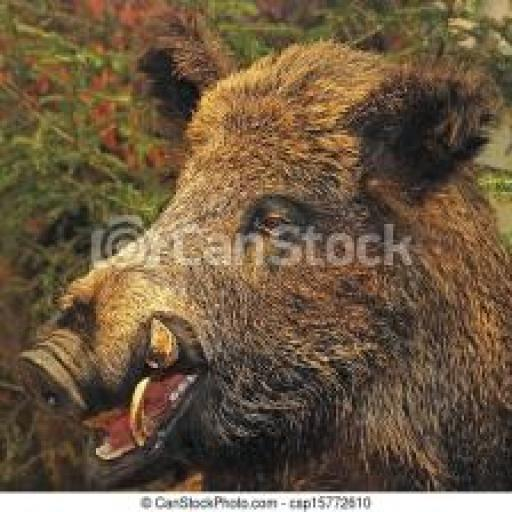Pig: (18, 9, 512, 489)
